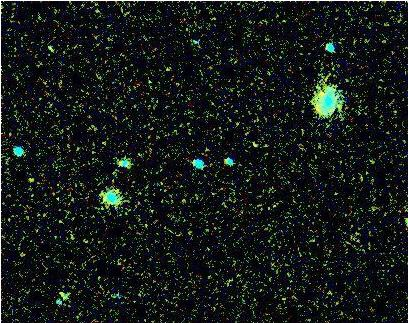star: (314, 85, 344, 115)
